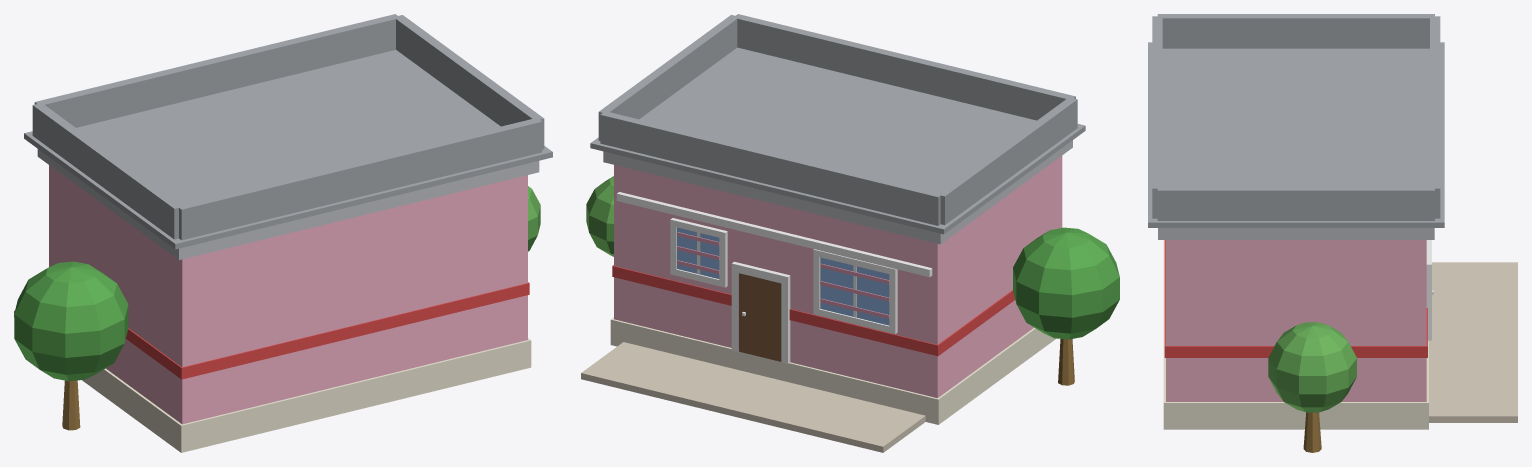
The model's file is casaRosaFinalTablero.glb.
The picture shows the model from 3 angles, left to right: view 1: azimuth 30°, elevation 25°; view 2: azimuth 150°, elevation 25°; view 3: azimuth 270°, elevation 25°; orthographic projection. The views are drawn at different scales.
Parts seen in each view (by area): view 1: R_Cuerpo, R_Techo_corn, R_Techo_pB, R_Zocalo, R_Techo_pF, cpRa0, R_Techo_pL, R_Techo_losa, R_Techo_pR, R_FranjaRoja, trRa, cpRb0; view 2: R_Cuerpo, R_Techo_corn, cp_R, R_Techo_pF, R_Techo_pB, R_Zocalo, cpRa0, R_Techo_pL, R_Techo_losa, R_Techo_pR, R_FranjaRoja, R_Mold (+12 smaller); view 3: R_Techo_corn, R_Cuerpo, cp_R, R_Techo_pR, R_Techo_pL, R_Zocalo, cpRb0, R_Techo_losa, R_FranjaRoja, R_Techo_pF, R_Techo_pB, trRb.
Part boxes in pixels (x1,y1,x2,y2): R_Cuerpo: (49,165,527,424); R_Techo_corn: (24,50,552,249); R_Techo_pB: (176,118,542,240); R_Zocalo: (82,338,531,452); R_Techo_pF: (34,14,399,127); cpRa0: (14,261,128,381); R_Techo_pL: (32,104,181,239); R_Techo_losa: (37,149,539,259); R_Techo_pR: (394,15,544,149); R_FranjaRoja: (126,282,529,379); trRa: (62,380,80,430); cpRb0: (528,186,540,251); R_Cuerpo: (614,155,1062,398); R_Techo_corn: (590,47,1085,234); cp_R: (581,342,925,452); R_Techo_pF: (600,111,940,225); R_Techo_pB: (733,14,1075,120); R_Zocalo: (610,317,1056,424); cpRa0: (1013,227,1119,339); R_Techo_pL: (937,98,1077,224); R_Techo_losa: (603,140,1072,244); R_Techo_pR: (598,14,737,140); R_FranjaRoja: (612,265,1015,356); R_Mold: (616,192,932,277); R_Techo_corn: (1148,42,1444,227); R_Cuerpo: (1166,240,1426,401); cp_R: (1429,262,1517,422); R_Techo_pR: (1157,186,1434,220); R_Techo_pL: (1157,14,1434,48); R_Zocalo: (1163,240,1428,429); cpRb0: (1268,322,1356,412); R_Techo_losa: (1158,228,1434,239); R_FranjaRoja: (1164,240,1427,357); R_Techo_pF: (1430,16,1440,218); R_Techo_pB: (1152,16,1162,218); trRb: (1303,412,1321,452).
Bounding box in the file's own units: 18.47 × 8.25 × 11.35.
